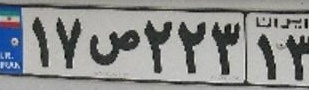character: (85, 18, 143, 70), (209, 13, 243, 82), (141, 12, 175, 78), (175, 16, 210, 79), (52, 12, 86, 72), (26, 13, 53, 72), (253, 28, 281, 82), (284, 31, 309, 85)
